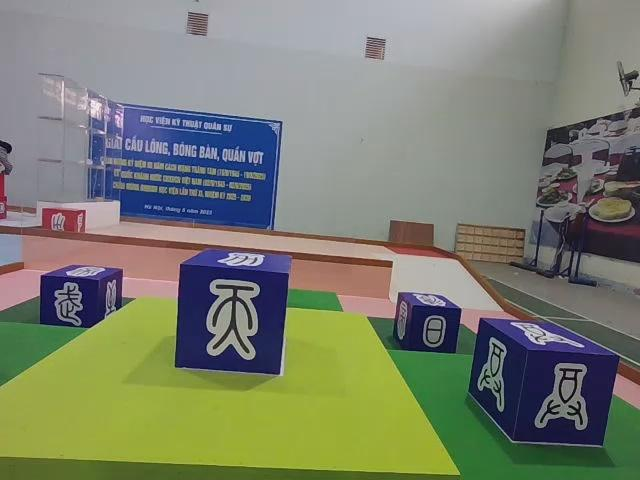R2 Fake Blue: (174, 248, 291, 377), (40, 263, 124, 328), (393, 293, 462, 355)
R2 Real Blue: (471, 320, 619, 451)
